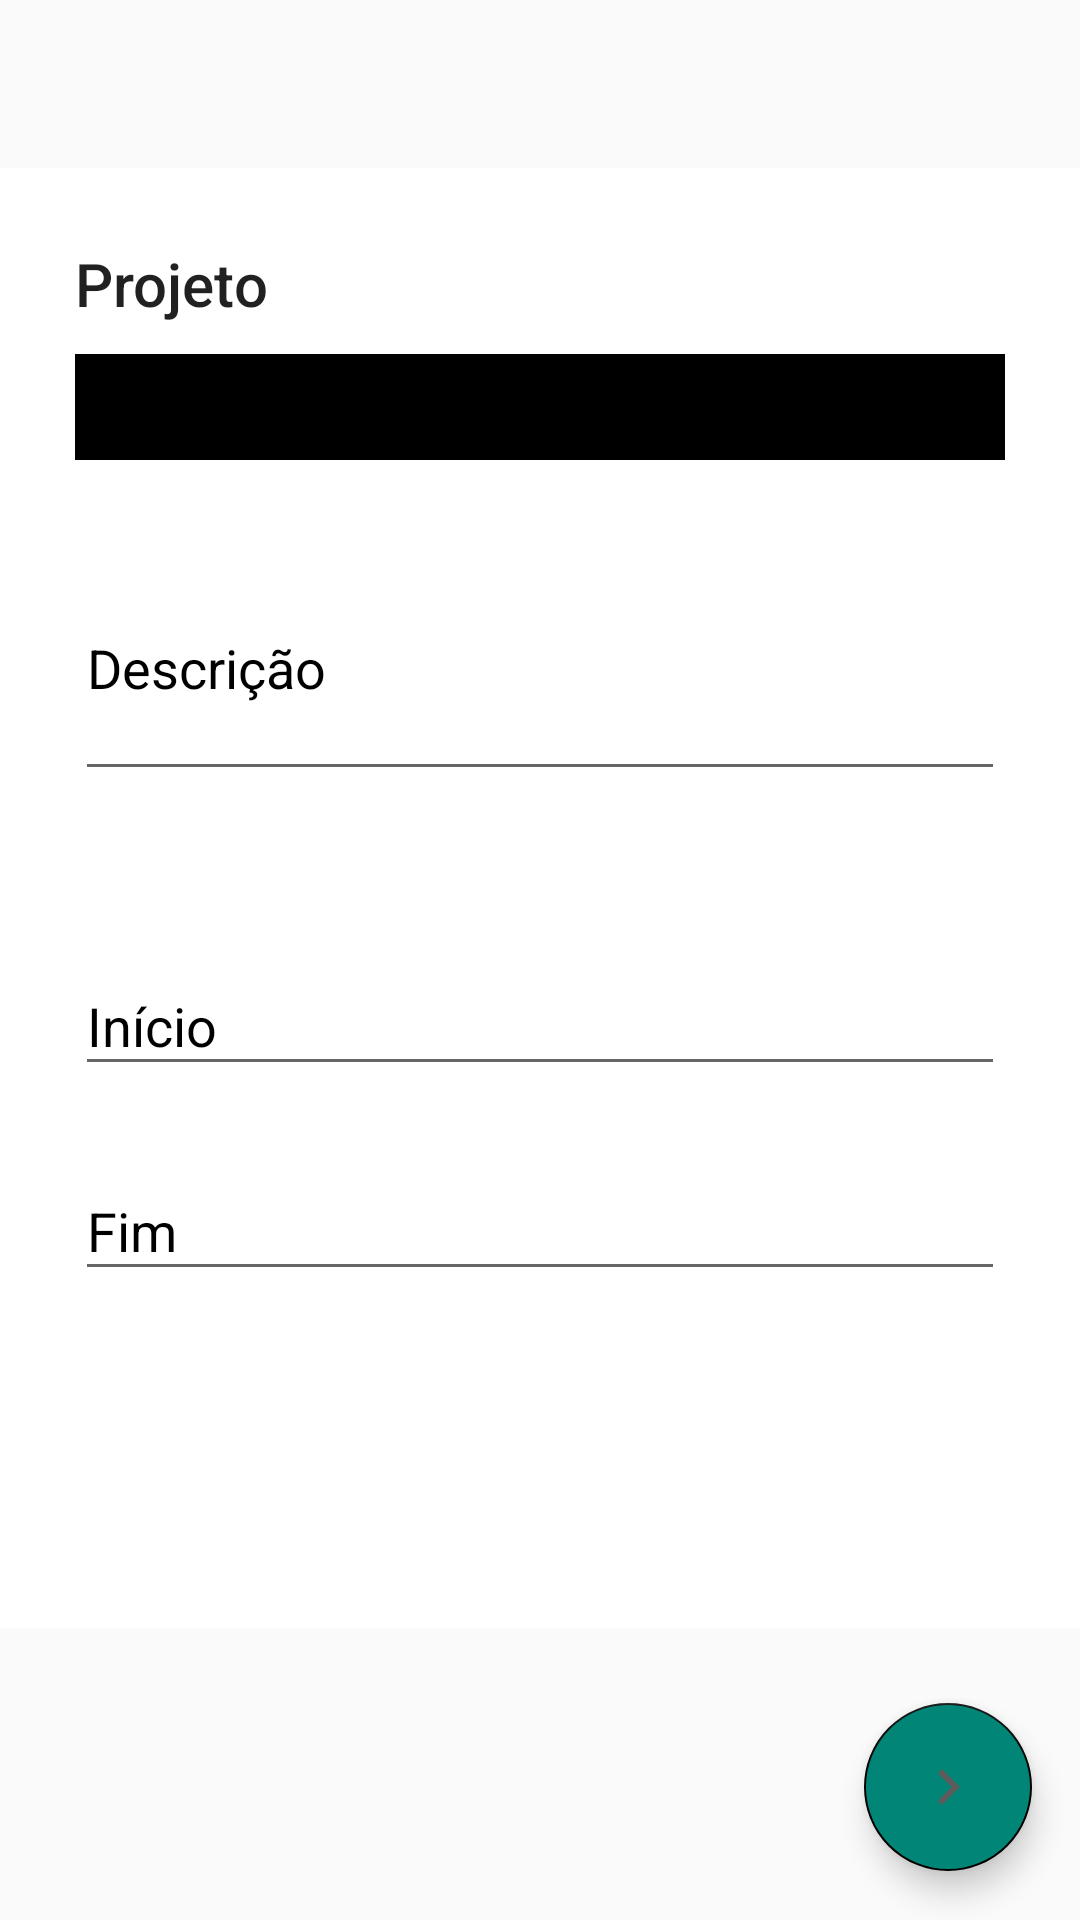

Icons on this 1080px x 1920px Android screen, each with the point to tap as [x,y]:
chevron right: [948,1787]
